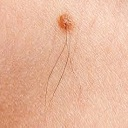Melanoma: (58, 12, 76, 29)
